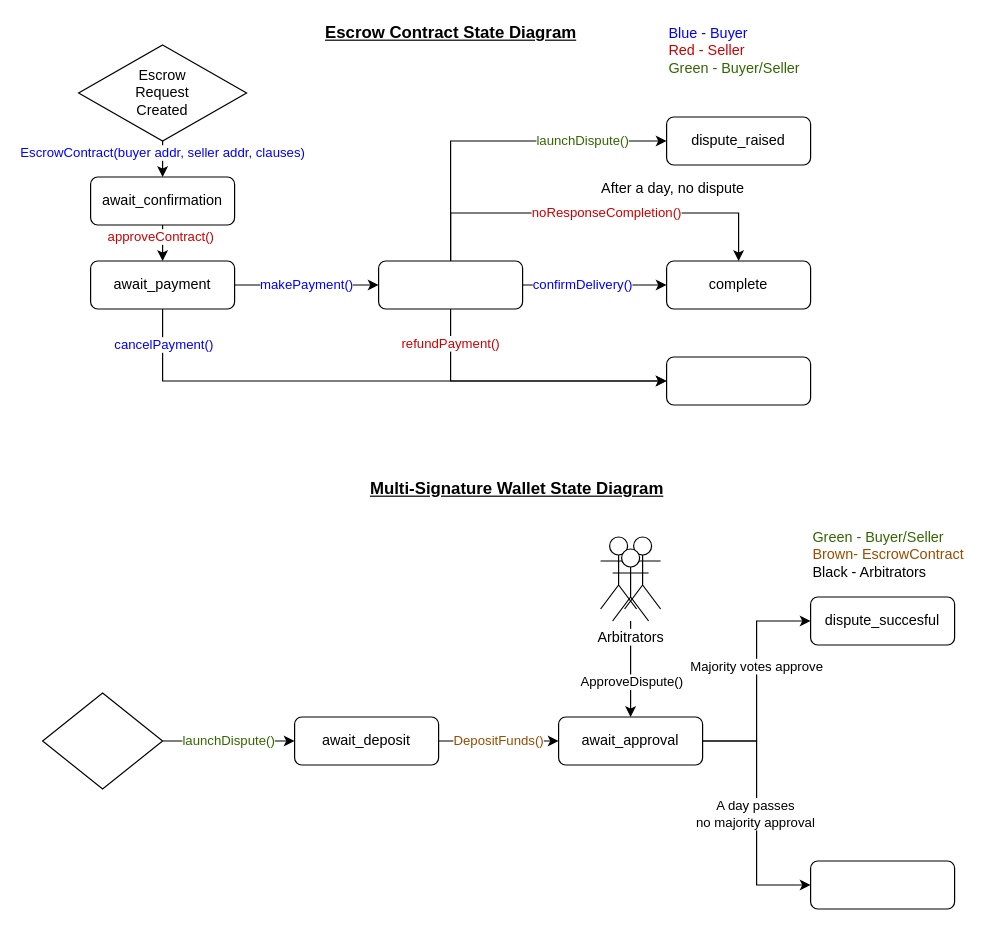
Some shapes in this 1000 by 930 pixel diagram are drawn without their labels. Here are the shapes that lost their labels. From the top down, the centre of each, then its label:
At (x=450, y=284): "await_delivery".
At (x=738, y=380): "cancelled".
At (x=102, y=740): "Dispute Launched".
At (x=882, y=884): "dispute_failed".
